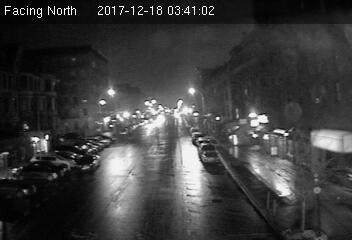car: (72, 154, 100, 171), (201, 149, 219, 163)
